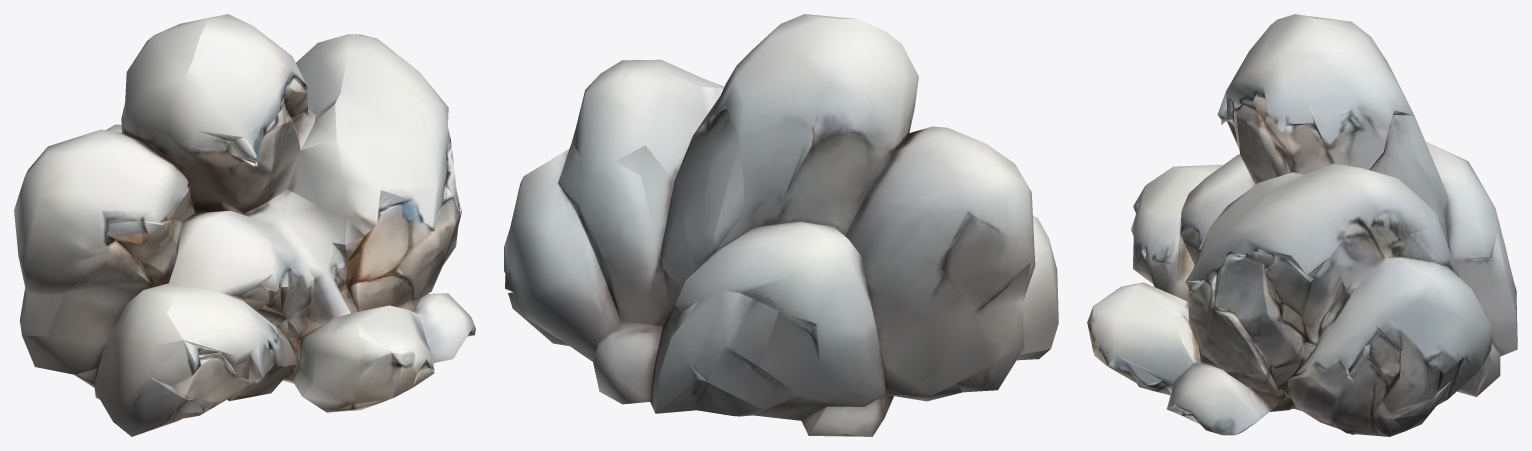
File: m2SnowRock.glb
3 views of the same model, side by side, from view 1: azimuth 30°, elevation 25°; view 2: azimuth 150°, elevation 25°; view 3: azimuth 270°, elevation 25° (orthographic). The views are drawn at different scales.
Parts seen in each view (by area): view 1: model; view 2: model; view 3: model.
Part boxes in pixels (left/top/right/bottom): model: left=14, top=14, right=475, bottom=436; model: left=504, top=14, right=1058, bottom=436; model: left=1087, top=14, right=1517, bottom=436.
Size of the model in its own units: 1.91 by 1.39 by 1.64.
Materials: 1 (1 with a texture image).
